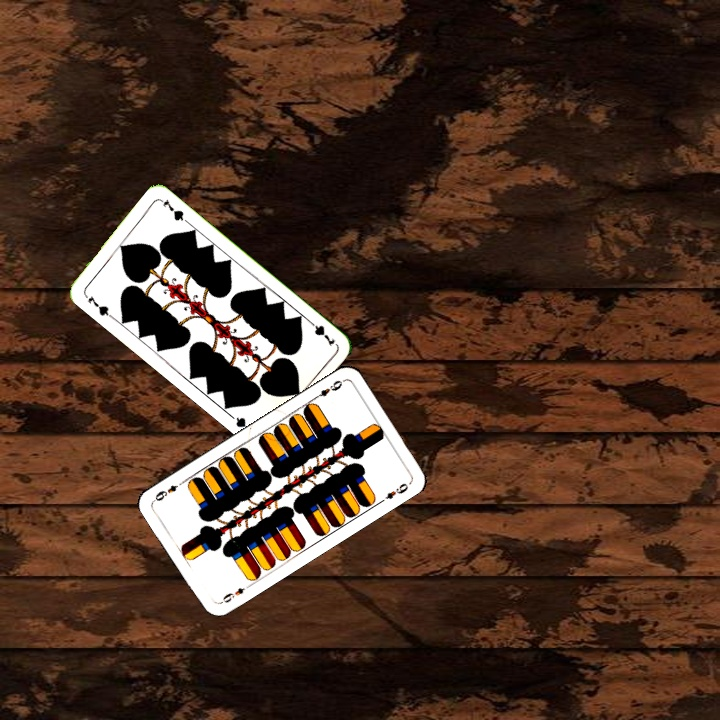E9: (216, 581, 253, 607), (310, 376, 346, 402)
G7: (304, 315, 338, 348), (84, 291, 115, 320)
